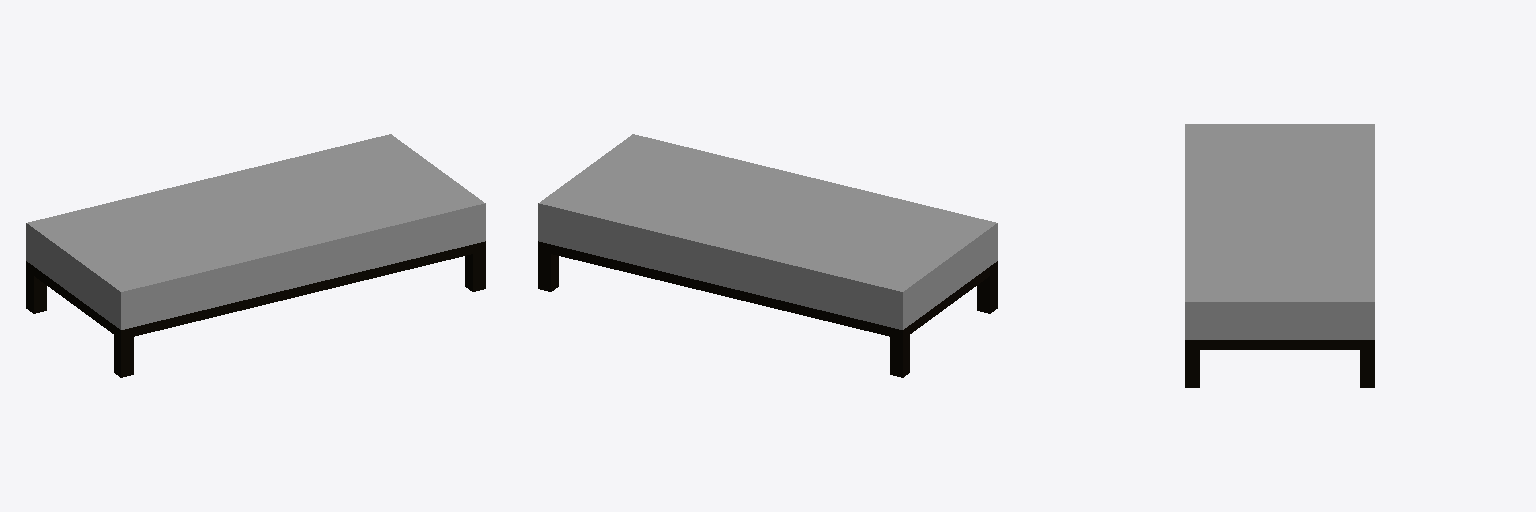
Rendered from bed.obj.
3 views of the same model, side by side, from view 1: azimuth 30°, elevation 25°; view 2: azimuth 150°, elevation 25°; view 3: azimuth 270°, elevation 25° (orthographic).
Parts seen in each view (by area): view 1: Cube_Cube.006; view 2: Cube_Cube.006; view 3: Cube_Cube.006.
Boxes of the visible parts, <box> form: Cube_Cube.006: <box>26,134,485,377</box>; Cube_Cube.006: <box>538,134,997,377</box>; Cube_Cube.006: <box>1185,124,1374,387</box>.
Size of the model in its own units: 2 by 0.45 by 0.9.